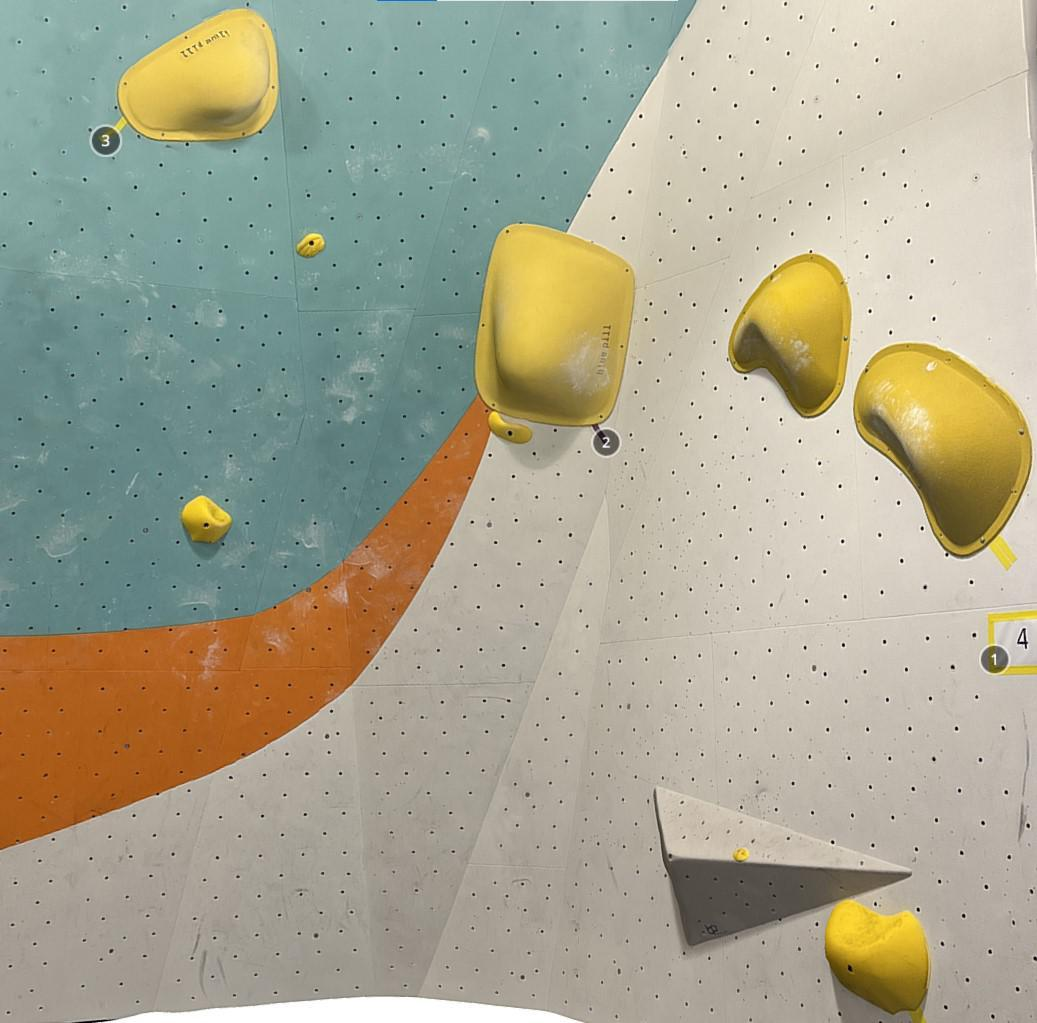hold: (853, 342, 1032, 557), (474, 223, 635, 426), (117, 8, 279, 141), (728, 253, 850, 418), (825, 899, 928, 1016), (181, 495, 232, 544), (487, 411, 532, 443), (296, 232, 326, 257), (733, 847, 750, 862)
volume: (653, 785, 912, 947)
